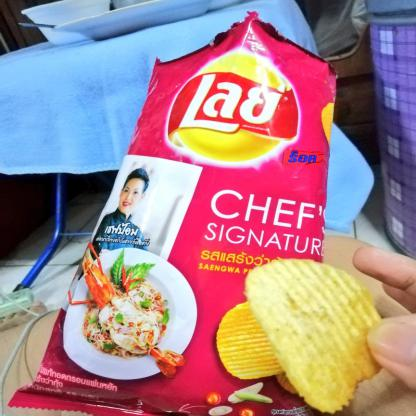potatochip: (0, 6, 368, 416)
